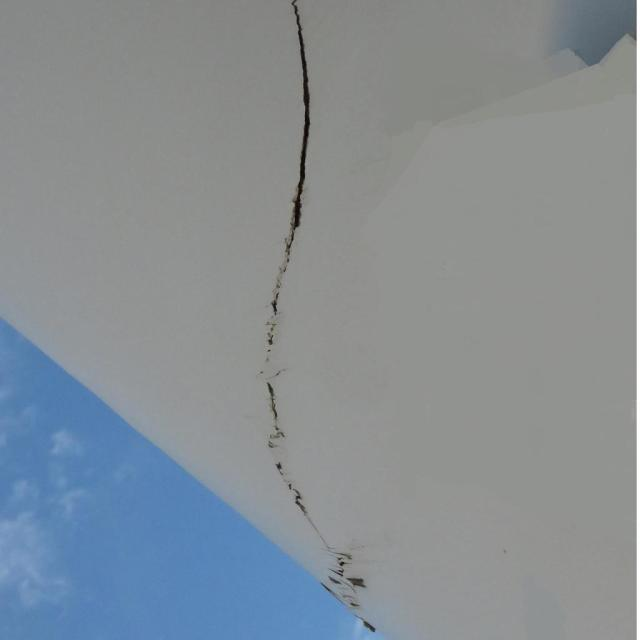crack: (264, 0, 351, 602)
